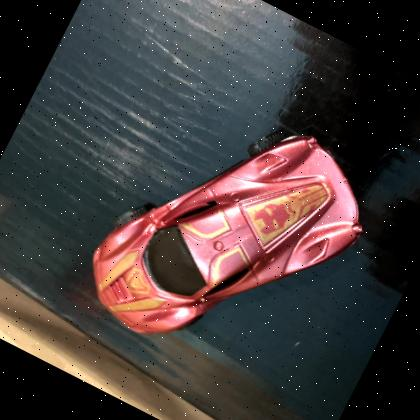Car: (67, 70, 393, 408)
